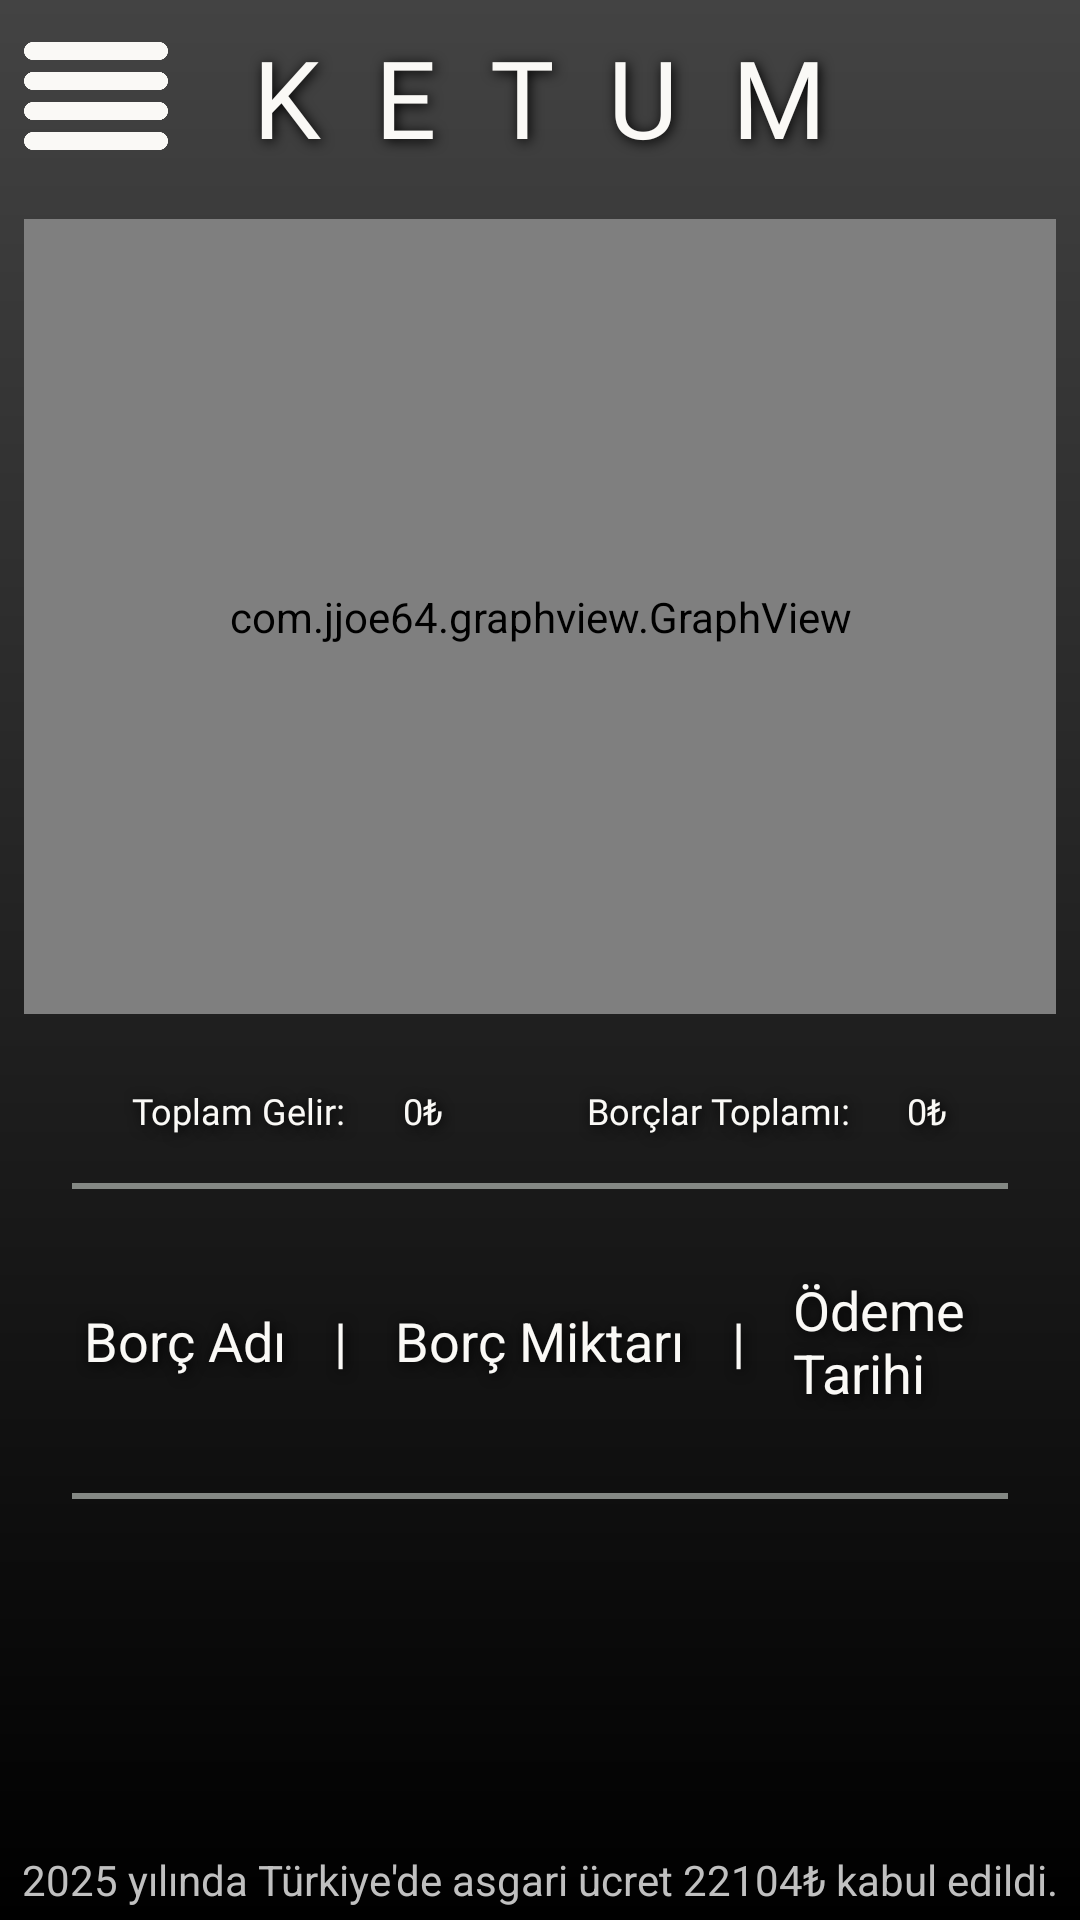

Locate icon controls on the screen. Image size 1080px×1920px, boxes as (x1, y1, x2, y2).
menu: (24, 42, 168, 150)
